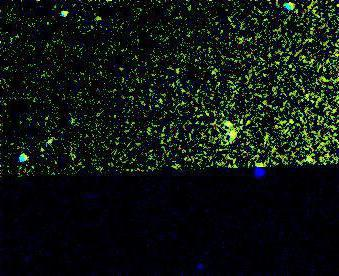star: (218, 110, 248, 140)
